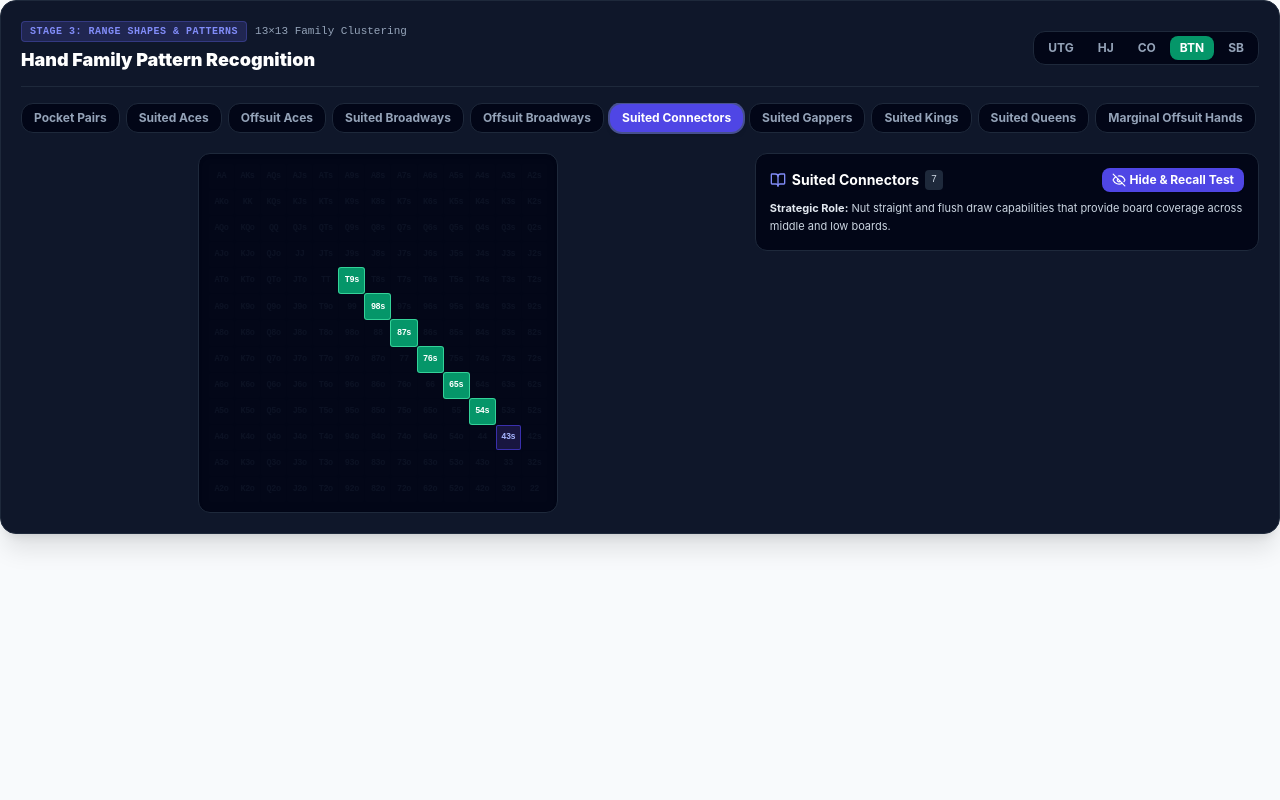
it: Opening Range Comparison & Patterns › RangePatternExplorer › supports entering Hide & Recall test mode and evaluating recall
Click the button "Hide & Recall Test": {"x": 1173, "y": 180} [1102,168,1244,192]
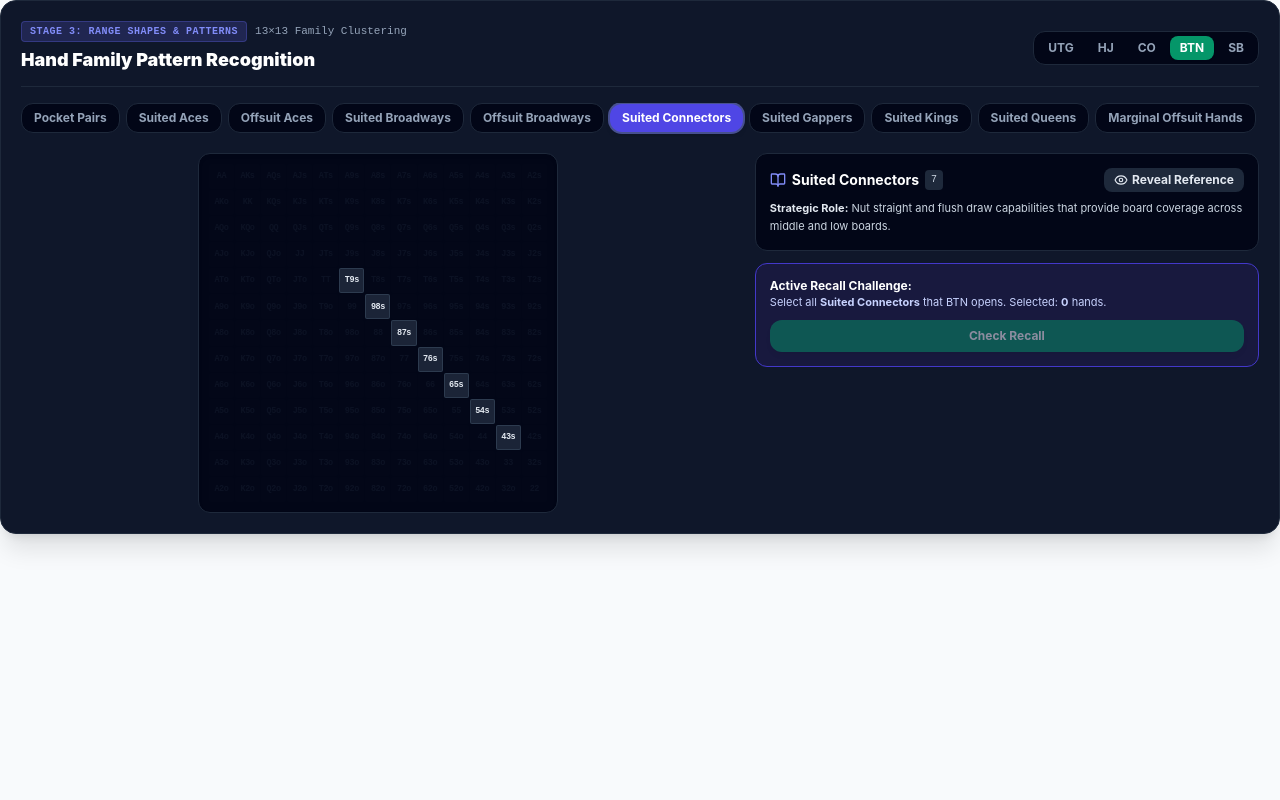
Expected: the text "Active Recall Challenge:" is shown, [770,278,912,293]
